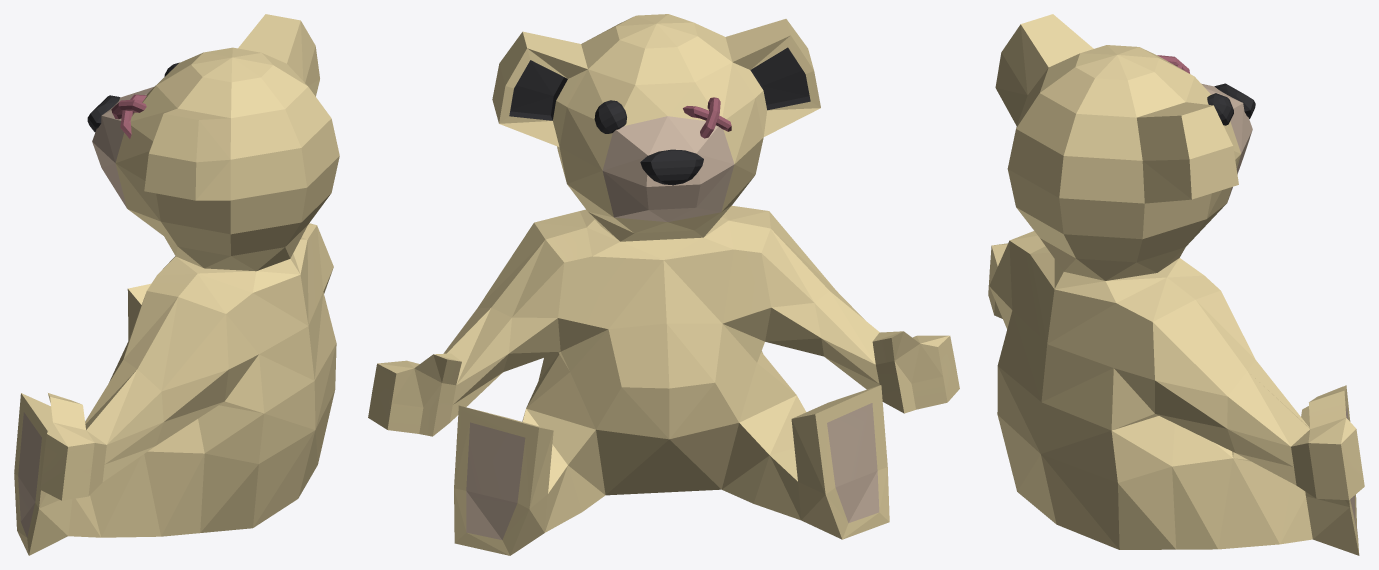
File: f-bear.fbx
The picture shows the model from 3 angles, left to right: view 1: azimuth 30°, elevation 25°; view 2: azimuth 150°, elevation 25°; view 3: azimuth 270°, elevation 25°; orthographic projection. The views are drawn at different scales.
Visible parts, largest first — view 1: TeddYBear; view 2: TeddYBear; view 3: TeddYBear.
Boxes of the visible parts, <box> form: TeddYBear: <box>14,14,339,555</box>; TeddYBear: <box>368,14,959,555</box>; TeddYBear: <box>988,14,1364,555</box>.
Size of the model in its own units: 60.23 by 62.17 by 46.12.
